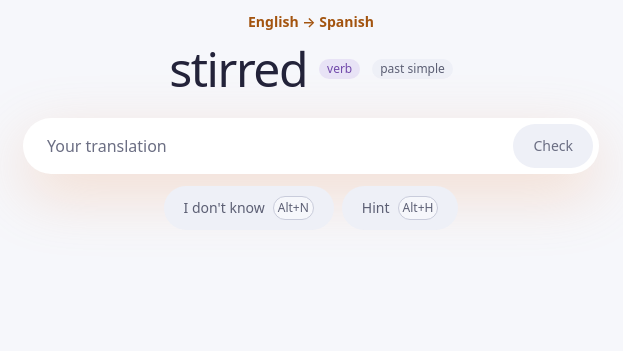
Scenario: a hint on a word › gives the sentence, then the length, then one more letter, and the answer is a helped one
The image size is (623, 351).
Click the button "Hint Alt+H" at (400, 208), box top-left (342, 186), bottom-right (458, 230)
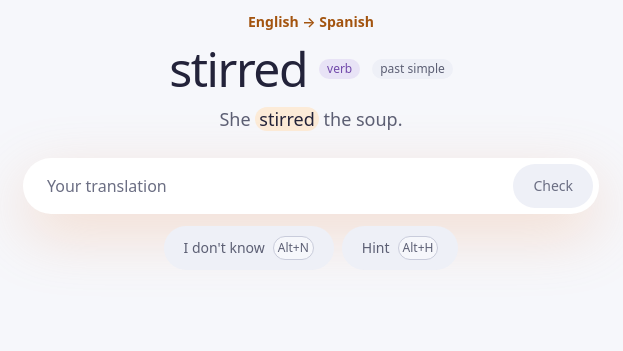
Expected: the button "Hint Alt+H" is enabled, top-left (342, 226), bottom-right (458, 270)
Result: the text "stirred" is shown at top-left (255, 107), bottom-right (319, 131)
Type keys "{Alt>}h{/Alt}"
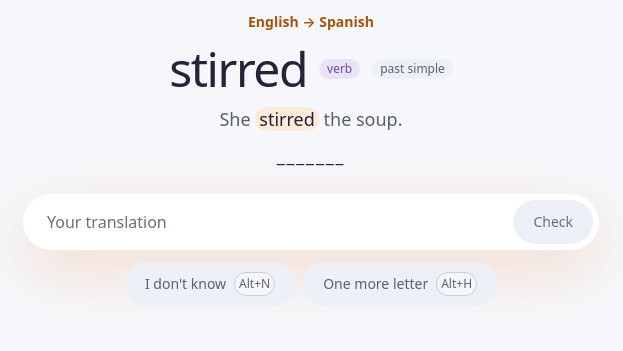
Result: the text "stirred" is shown at top-left (255, 107), bottom-right (319, 131)
Result: the text "_______" is shown at top-left (277, 143), bottom-right (345, 167)
Click the button "One more letter Alt+H" at (400, 284), box top-left (303, 262), bottom-right (497, 306)
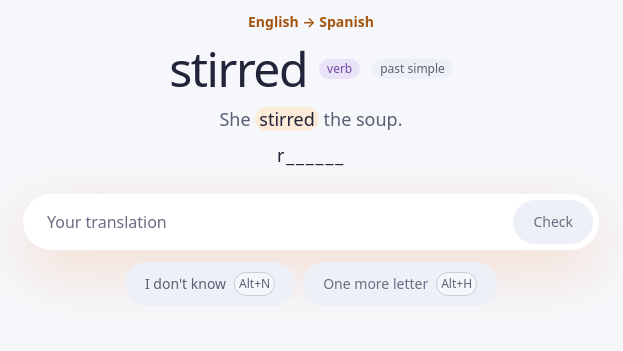
Result: the text "r______" is shown at top-left (277, 143), bottom-right (345, 167)
Type keys "{Alt>}h{/Alt}"
Type "remover" into the field labelled "Your translation" at (276, 222), box top-left (47, 200), bottom-right (505, 244)
Then press Enter
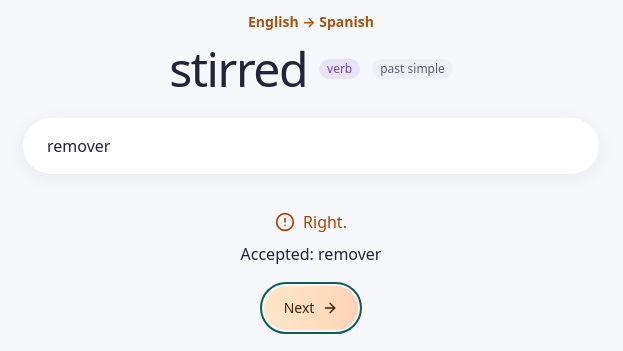
Result: the text "Right." is shown at top-left (275, 210), bottom-right (347, 234)
Result: the text "r______" is gone
